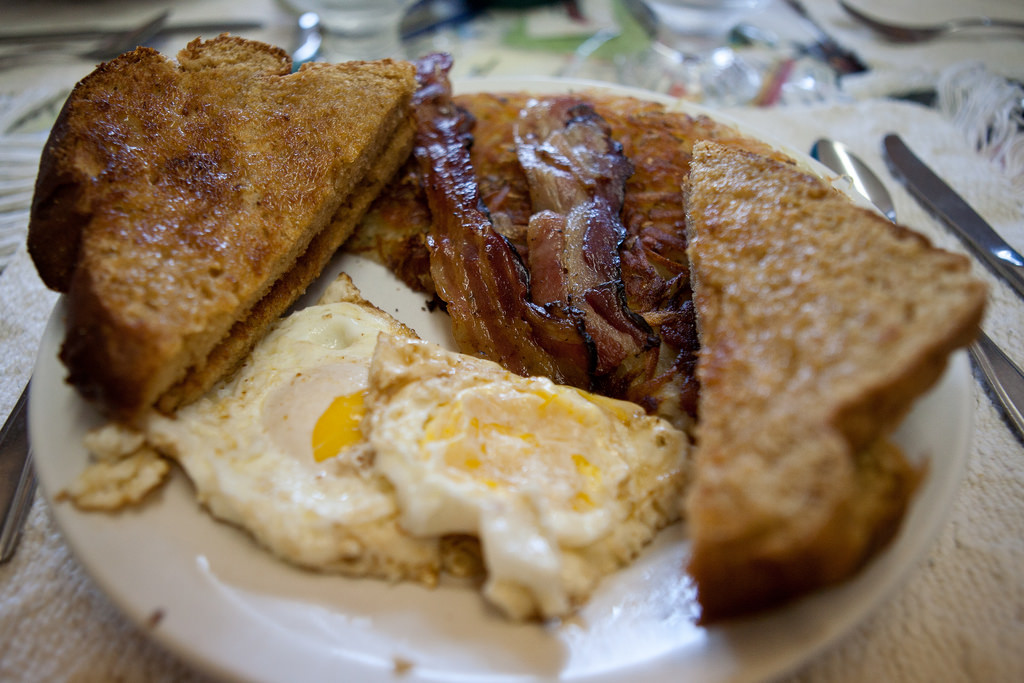fried egg: (397, 354, 694, 632), (138, 318, 455, 570)
slice of bread: (683, 130, 998, 643), (33, 30, 435, 418)
